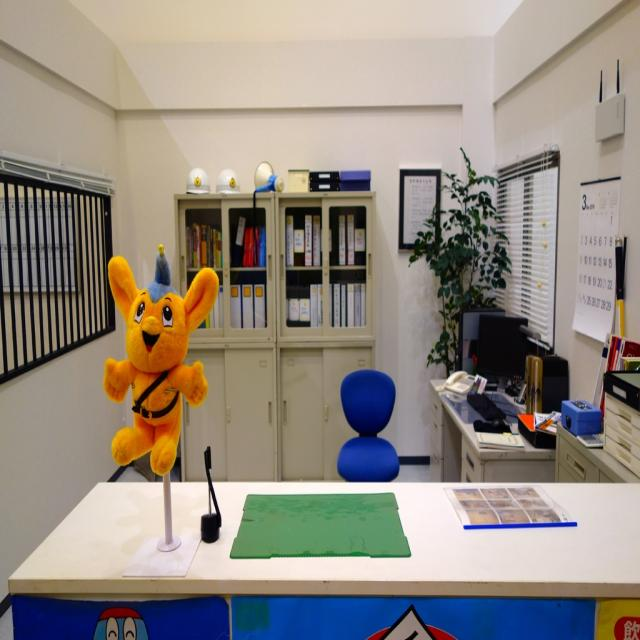chair: (337, 367, 400, 482)
desk: (7, 486, 640, 639)
tv: (460, 311, 530, 381)
